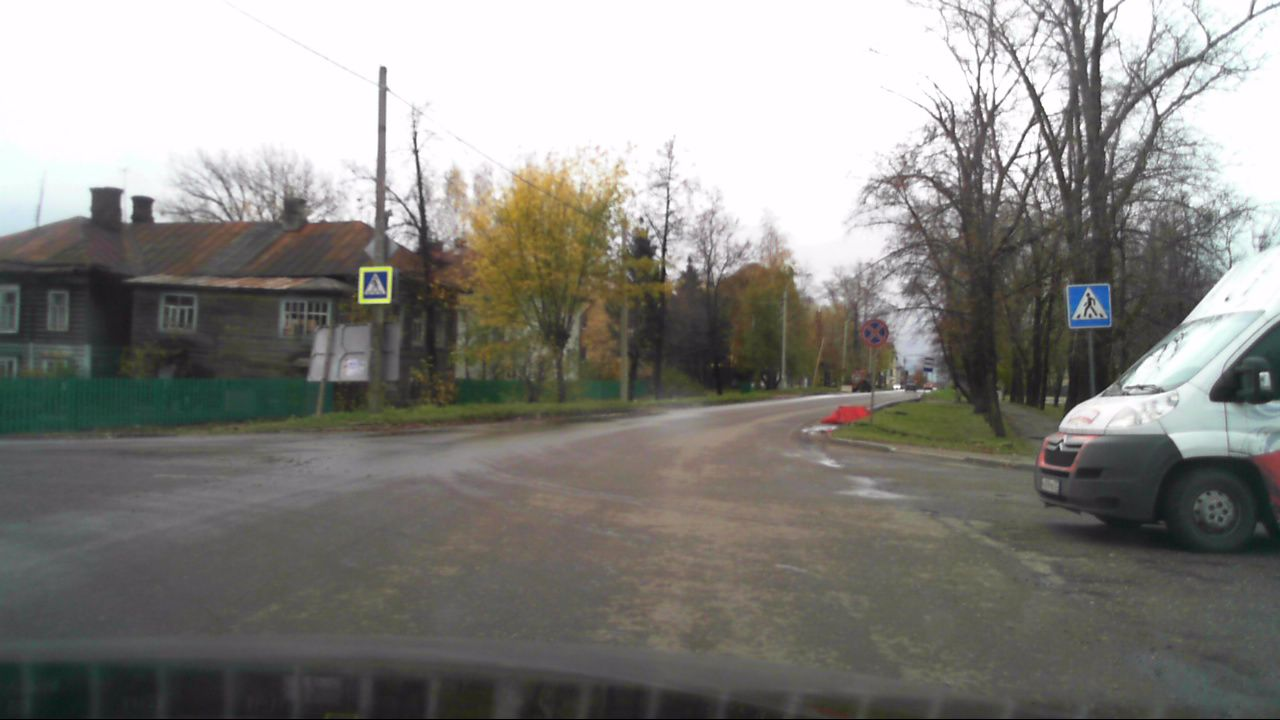No Parking: (859, 319, 889, 348)
